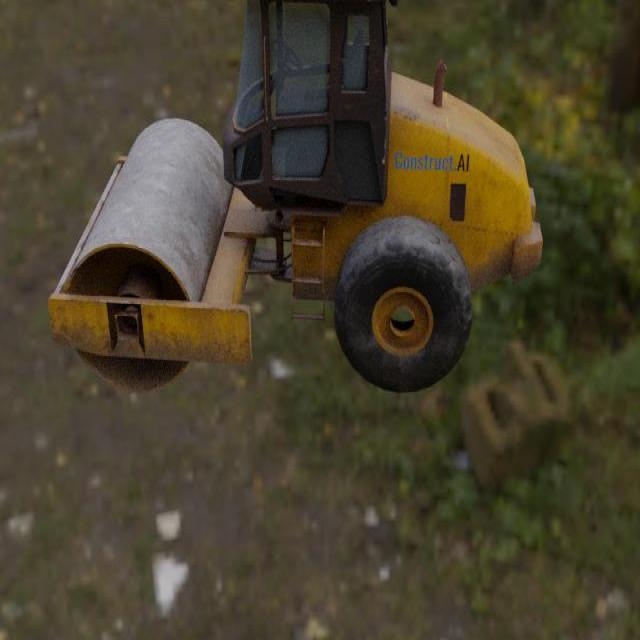Roller: (47, 0, 543, 395)
